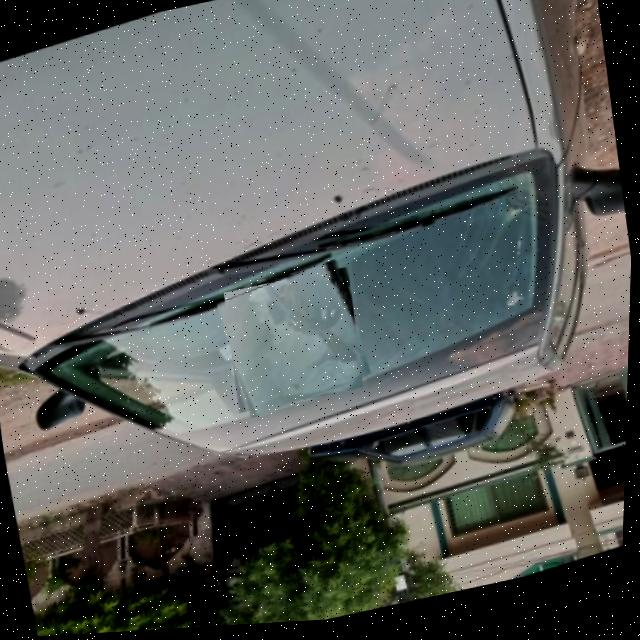no-seatbelt: (218, 264, 373, 423)
